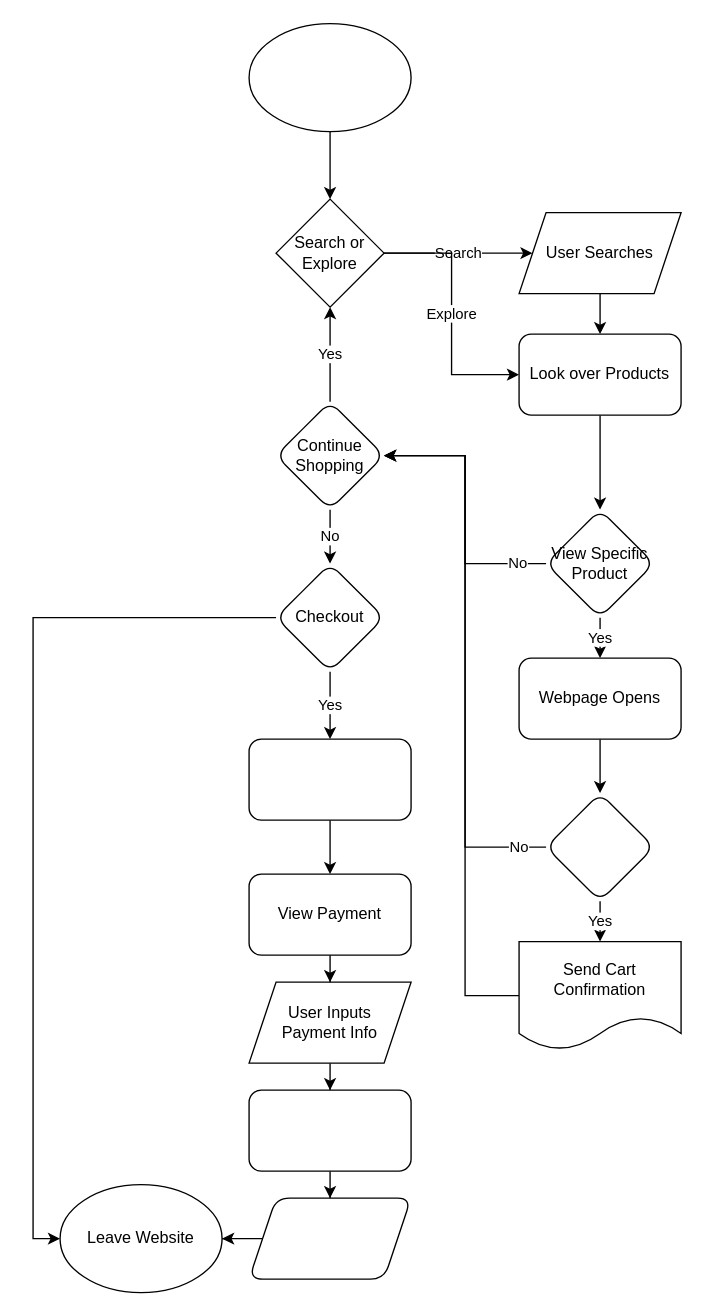
Some shapes in this 705 by 1316 pixel diagram are drawn without their labels. The shapes that lost their labels are listed below. From the top down, each one's centre as x and y in pixels, then its label:
At (x=329, y=77): "Enter Webpage".
At (x=329, y=779): "View Cart".
At (x=599, y=846): "Add to Cart".
At (x=329, y=1130): "Order Confirmation Screen".
At (x=329, y=1238): "Send Confirmation Email".
